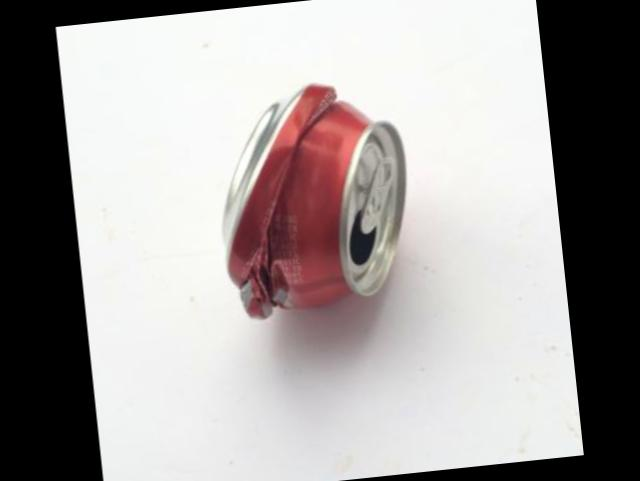metal: (226, 81, 407, 313)
